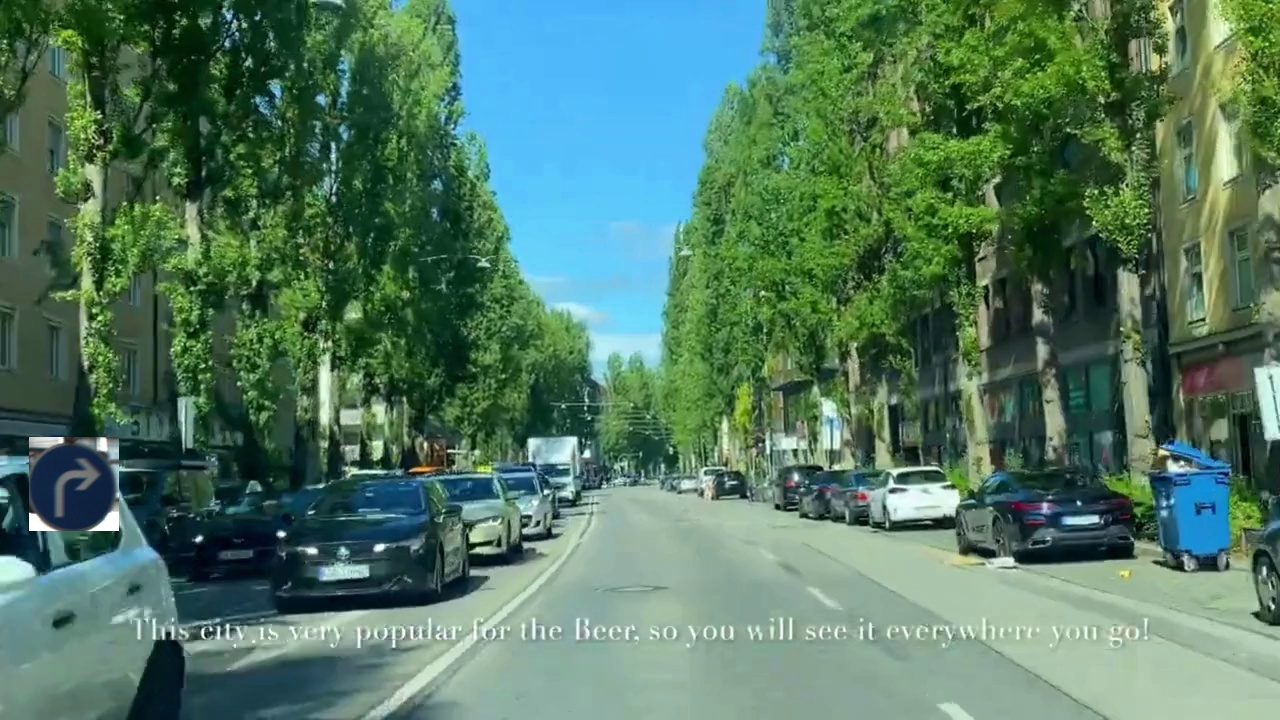Turn right: (29, 437, 119, 531)
